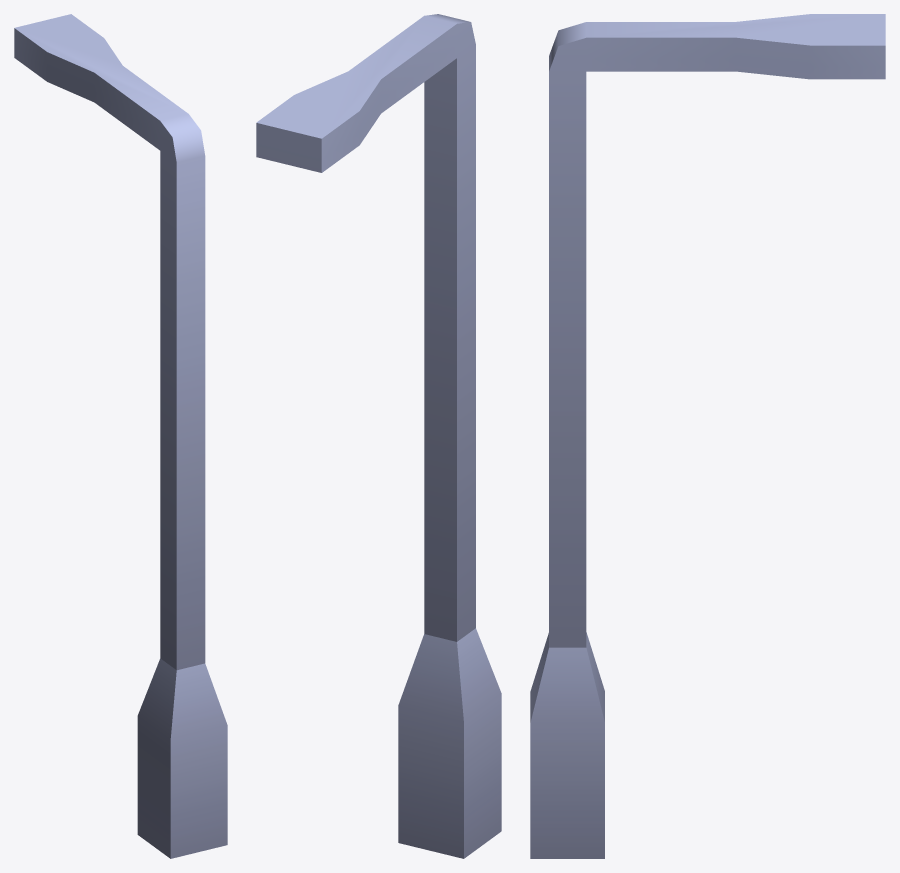
3 views of the same model, side by side, from view 1: azimuth 30°, elevation 25°; view 2: azimuth 150°, elevation 25°; view 3: azimuth 270°, elevation 25° (orthographic). The views are drawn at different scales.
Visible parts, largest first — view 1: light-square; view 2: light-square; view 3: light-square.
Part boxes in pixels (x1,y1,x2,y2): light-square: (14,14,227,858); light-square: (256,14,501,858); light-square: (530,14,885,858).
Bounding box in the file's own units: 0.534 × 6.41 × 2.54.
1 material, 1 textured.
